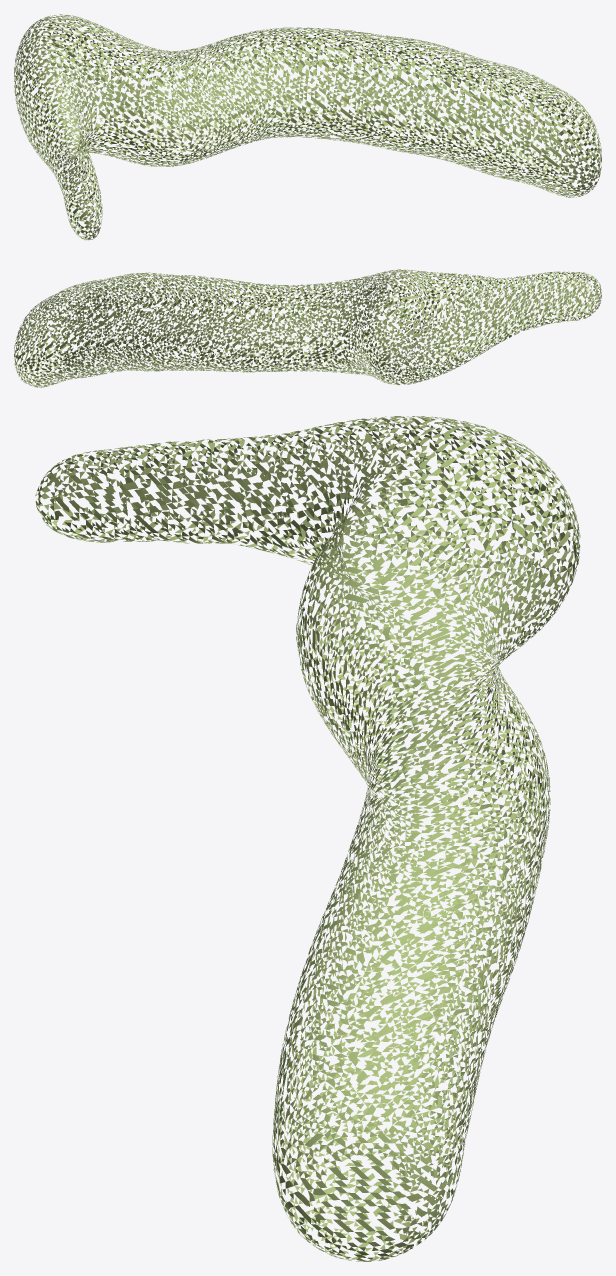
File: morph_011.glb
The picture shows the model from 3 angles, top to bottom: view 1: azimuth 30°, elevation 25°; view 2: azimuth 150°, elevation 25°; view 3: azimuth 270°, elevation 25°; orthographic projection. The views are drawn at different scales.
Size of the model in its own units: 115 by 48.75 by 54.42.
